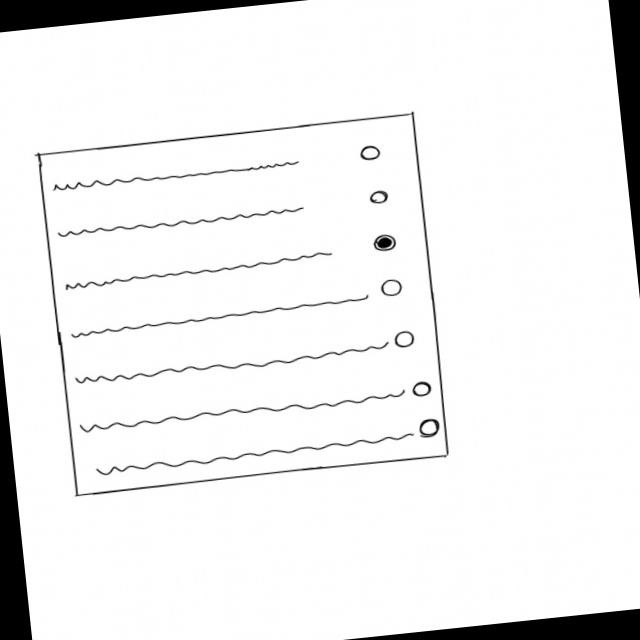container: (34, 111, 454, 502)
radio: (68, 277, 409, 343), (63, 231, 403, 295), (94, 416, 445, 477), (73, 328, 420, 388), (75, 379, 437, 436), (53, 187, 393, 241), (51, 143, 385, 195)
